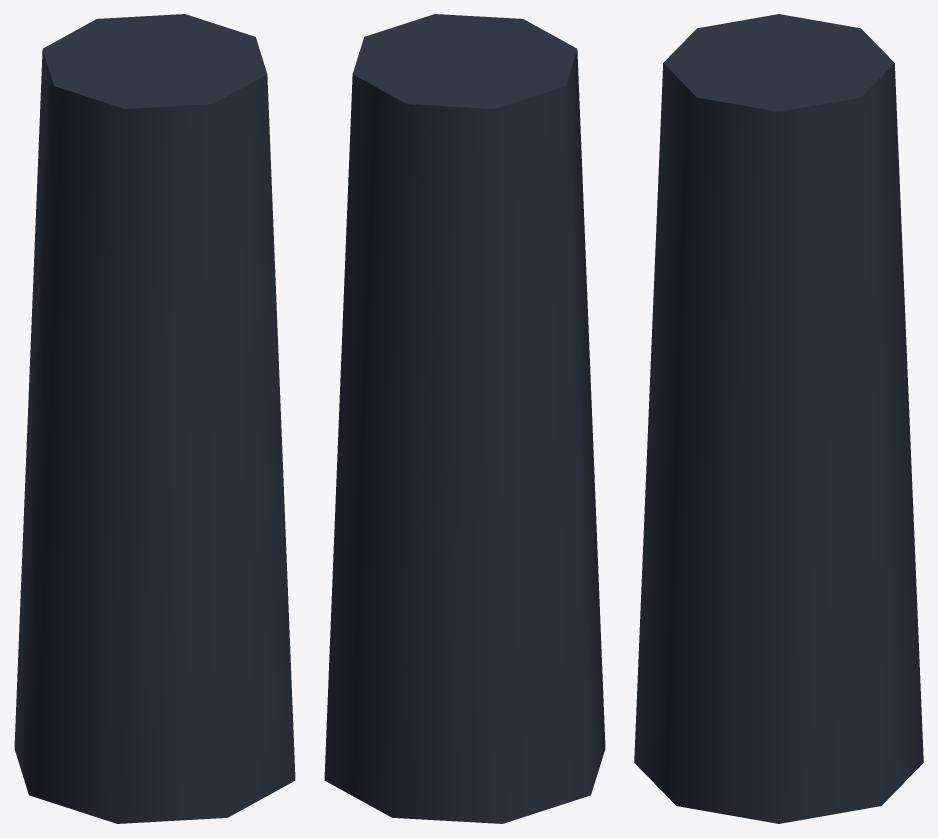
The model's file is metal-bollard-crafted-surface.glb.
3 renders of one model, left to right at view 1: azimuth 30°, elevation 25°; view 2: azimuth 150°, elevation 25°; view 3: azimuth 270°, elevation 25°, orthographic.
Visible parts, largest first — view 1: Authored_surface_002; view 2: Authored_surface_002; view 3: Authored_surface_002.
Boxes of the visible parts, bbox=[...] form: Authored_surface_002: bbox=[14, 14, 295, 823]; Authored_surface_002: bbox=[324, 14, 605, 823]; Authored_surface_002: bbox=[634, 14, 923, 823].
Bounding box in the file's own units: 0.375 × 1 × 0.375.
